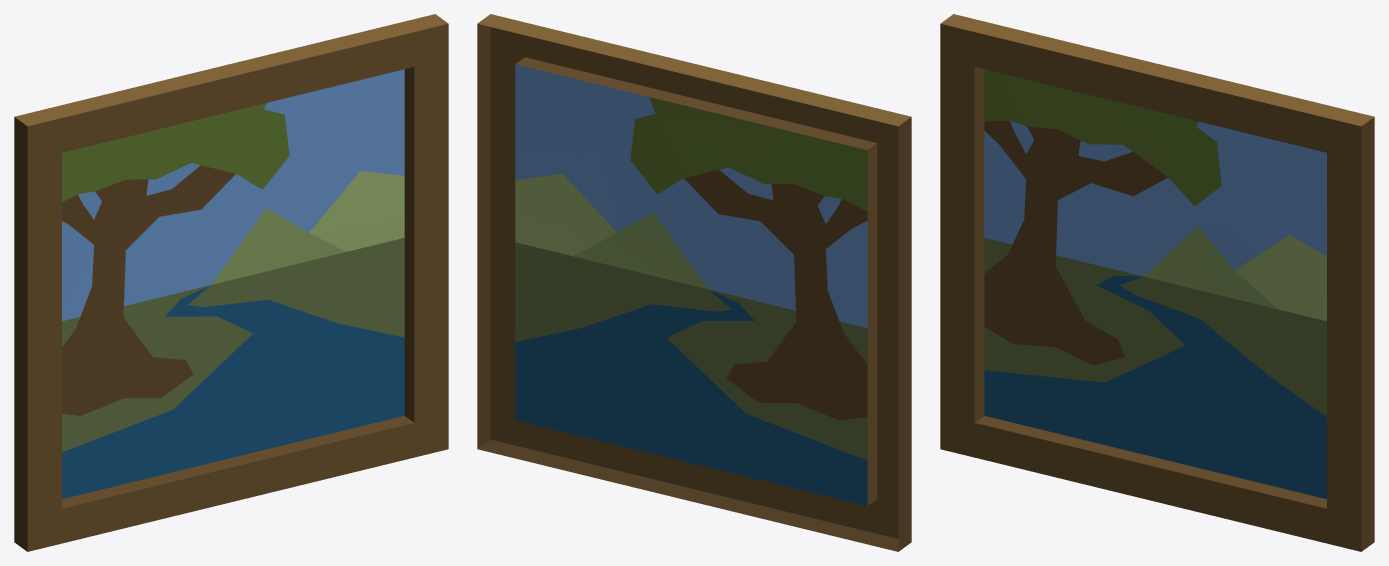
Rendered from Painting1.FBX.
The picture shows the model from 3 angles, left to right: view 1: azimuth 30°, elevation 25°; view 2: azimuth 150°, elevation 25°; view 3: azimuth 330°, elevation 25°; orthographic projection.
Parts seen in each view (by area): view 1: SM_Painting_01; view 2: SM_Painting_01; view 3: SM_Painting_01.
Boxes of the visible parts, x1,y1,x2,y2 form: SM_Painting_01: (14,14,448,551); SM_Painting_01: (477,14,911,551); SM_Painting_01: (940,14,1374,551).
Bounding box in the file's own units: 31.52 × 30.44 × 1.72.
